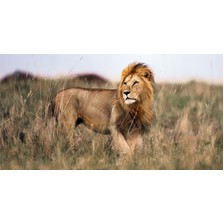lion: (46, 62, 156, 161)
